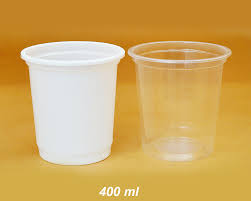plastic: (20, 40, 126, 166)
